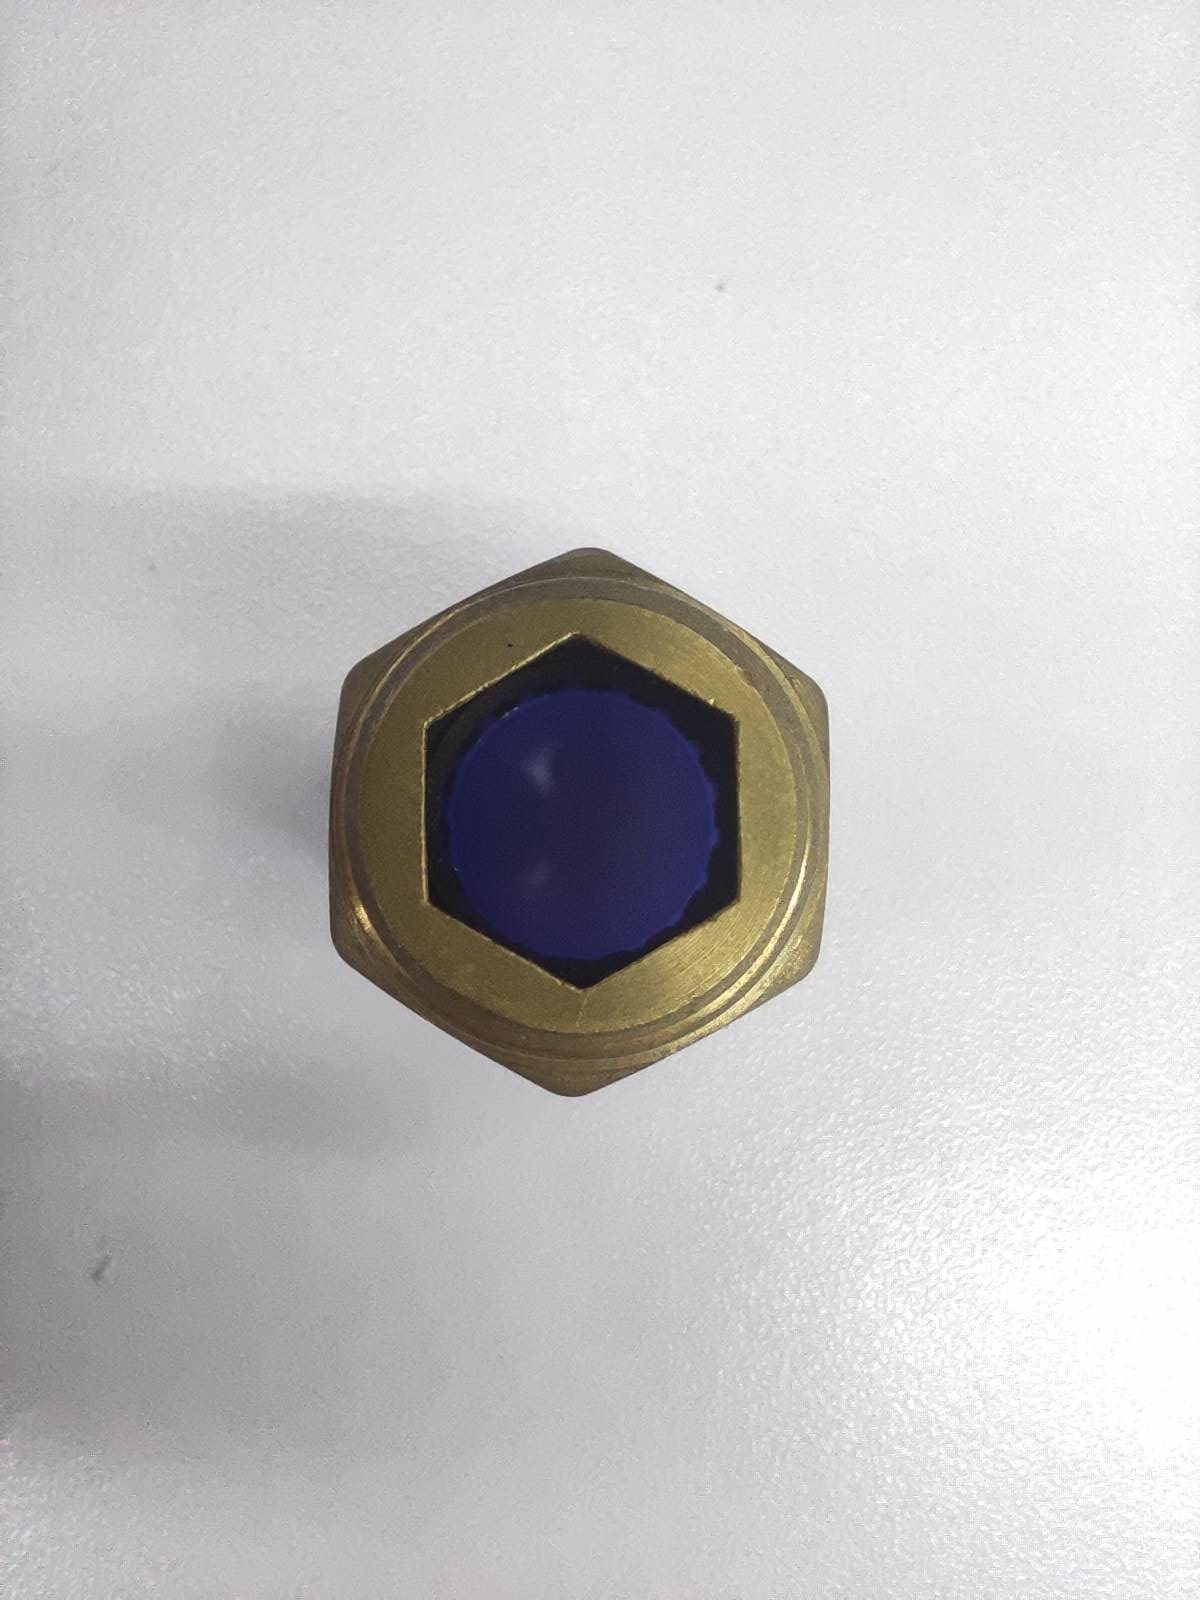水管接头黄: (328, 546, 831, 1099)
